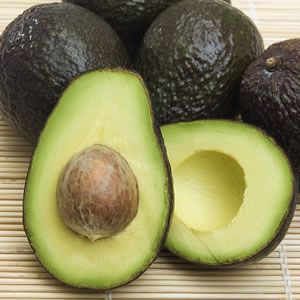fit_avocado: (1, 3, 132, 140), (137, 1, 263, 125)
